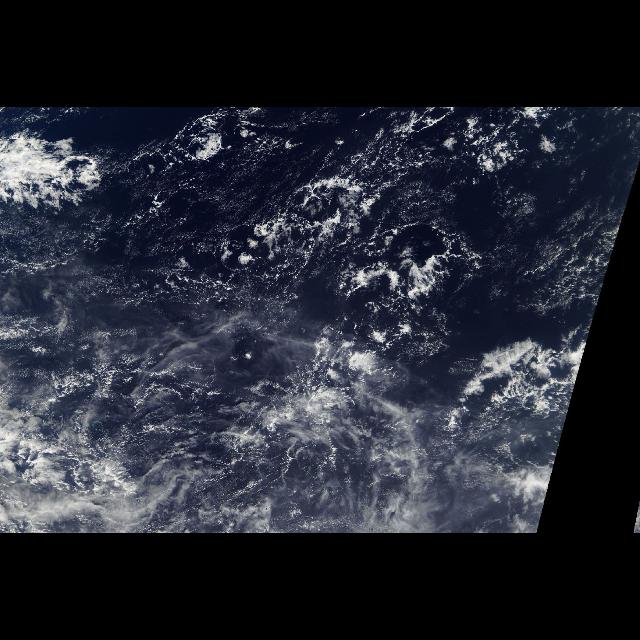Fish: (2, 130, 116, 224)
Gravel: (224, 201, 454, 333)
Sugar: (508, 182, 604, 312)
